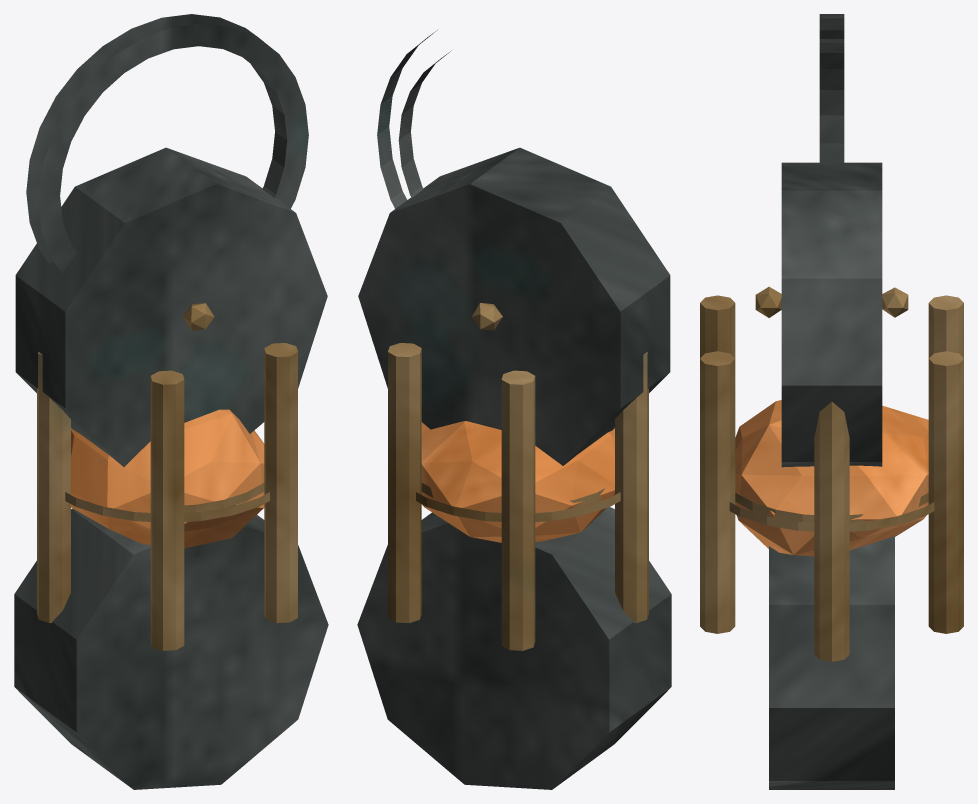
Rendered from 0916_lantern_16.glb.
3 renders of one model, left to right at view 1: azimuth 30°, elevation 25°; view 2: azimuth 150°, elevation 25°; view 3: azimuth 270°, elevation 25°, orthographic.
Parts seen in each view (by area): view 1: iron, brass, amber; view 2: iron, brass, amber; view 3: iron, brass, amber.
Boxes of the visible parts, <box> form: iron: <box>14,14,328,789</box>; brass: <box>37,303,297,650</box>; amber: <box>71,409,264,548</box>; iron: <box>357,30,671,789</box>; brass: <box>388,303,648,650</box>; amber: <box>421,421,614,542</box>; iron: <box>769,14,894,789</box>; brass: <box>700,286,963,661</box>; amber: <box>735,400,928,556</box>.
Bounding box in the file's own units: 0.5 × 1.32 × 0.4197.
3 materials, 3 textured.
